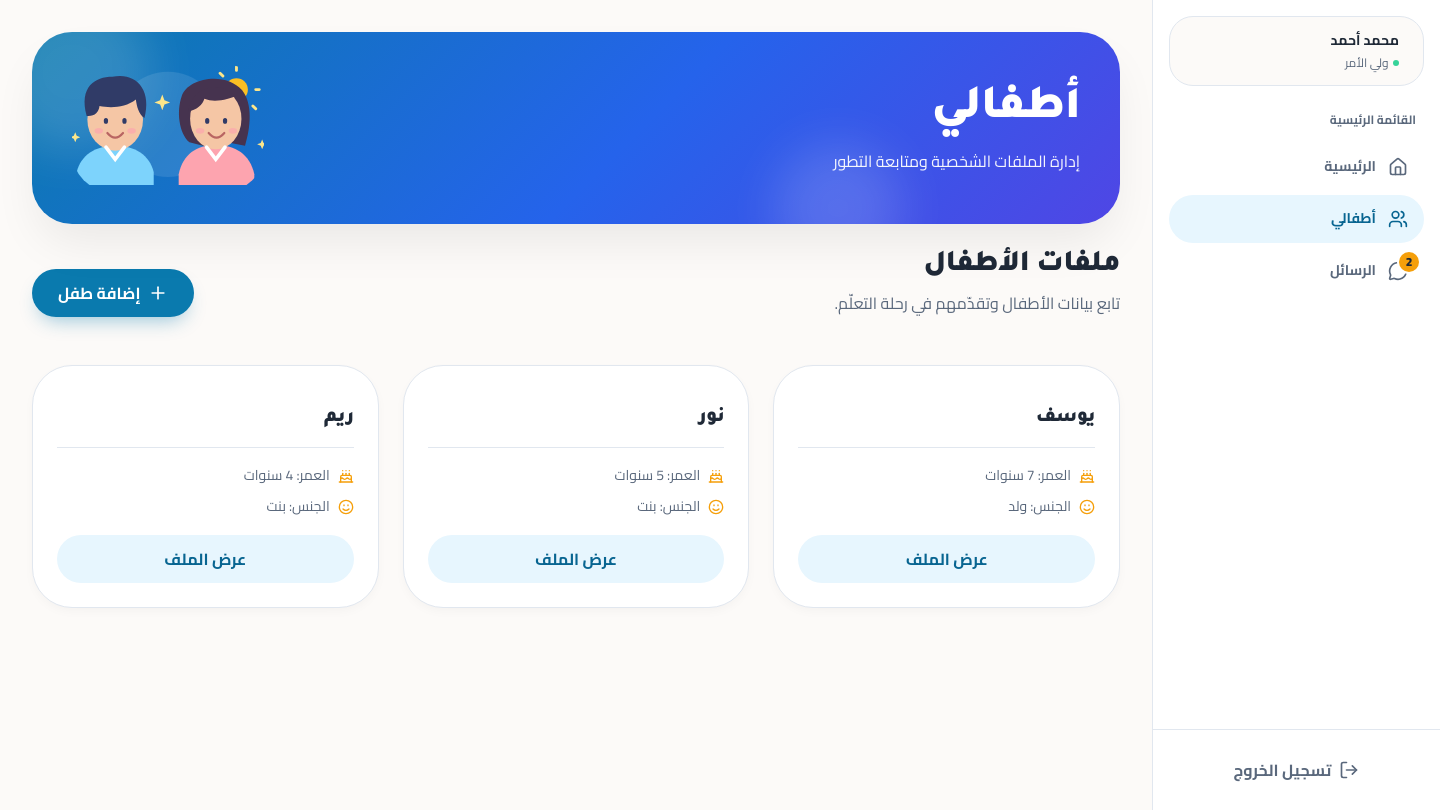
Test: ChildrenListPage — parent › adds a child through the API (multipart FullName/Age/Gender) and refreshes the list
Step 1. Click the button "إضافة طفل" → [113, 293], box [32,269,194,317]
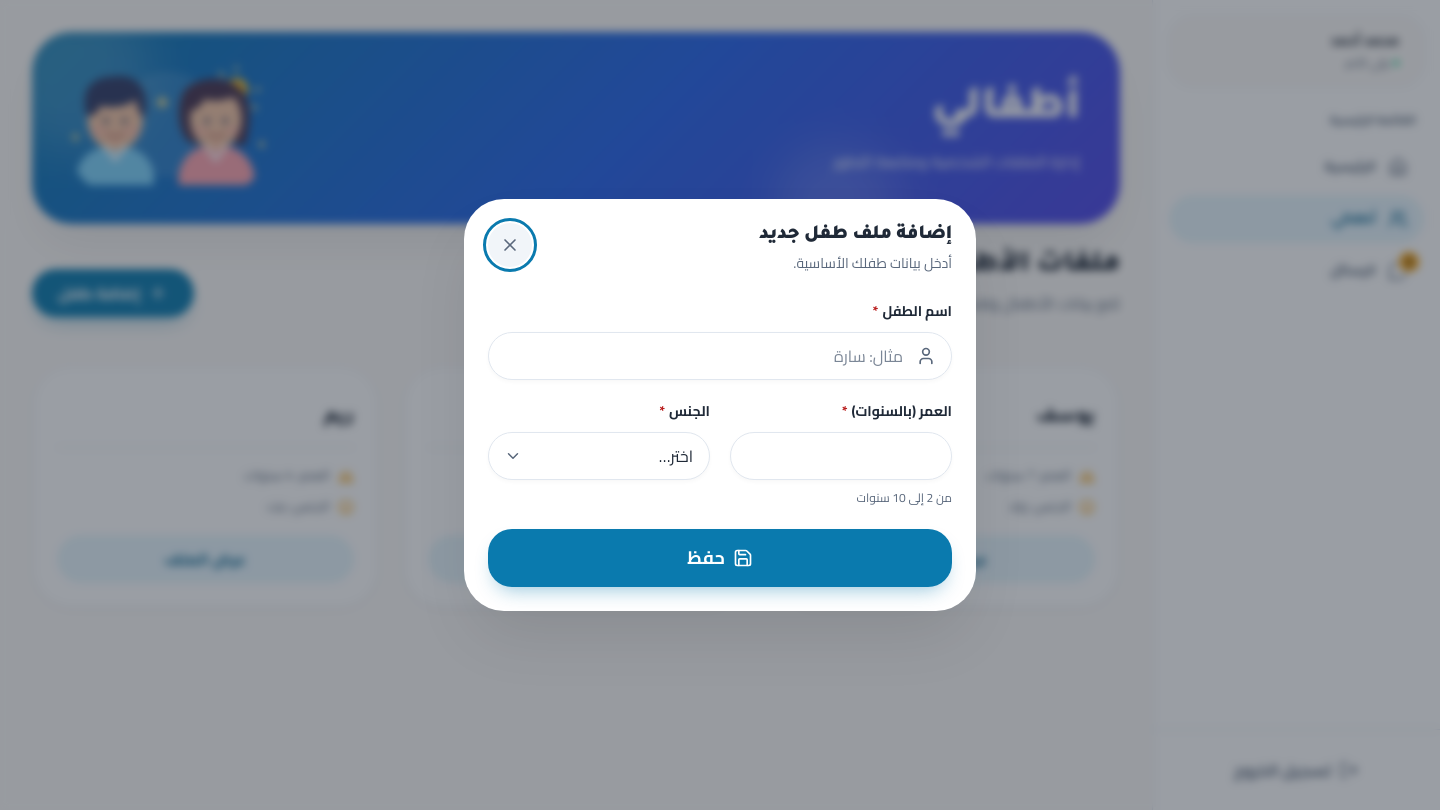
Step 2. Type "سارة" into the field labelled "اسم الطفل*" → [720, 356], box [488,332,952,380]
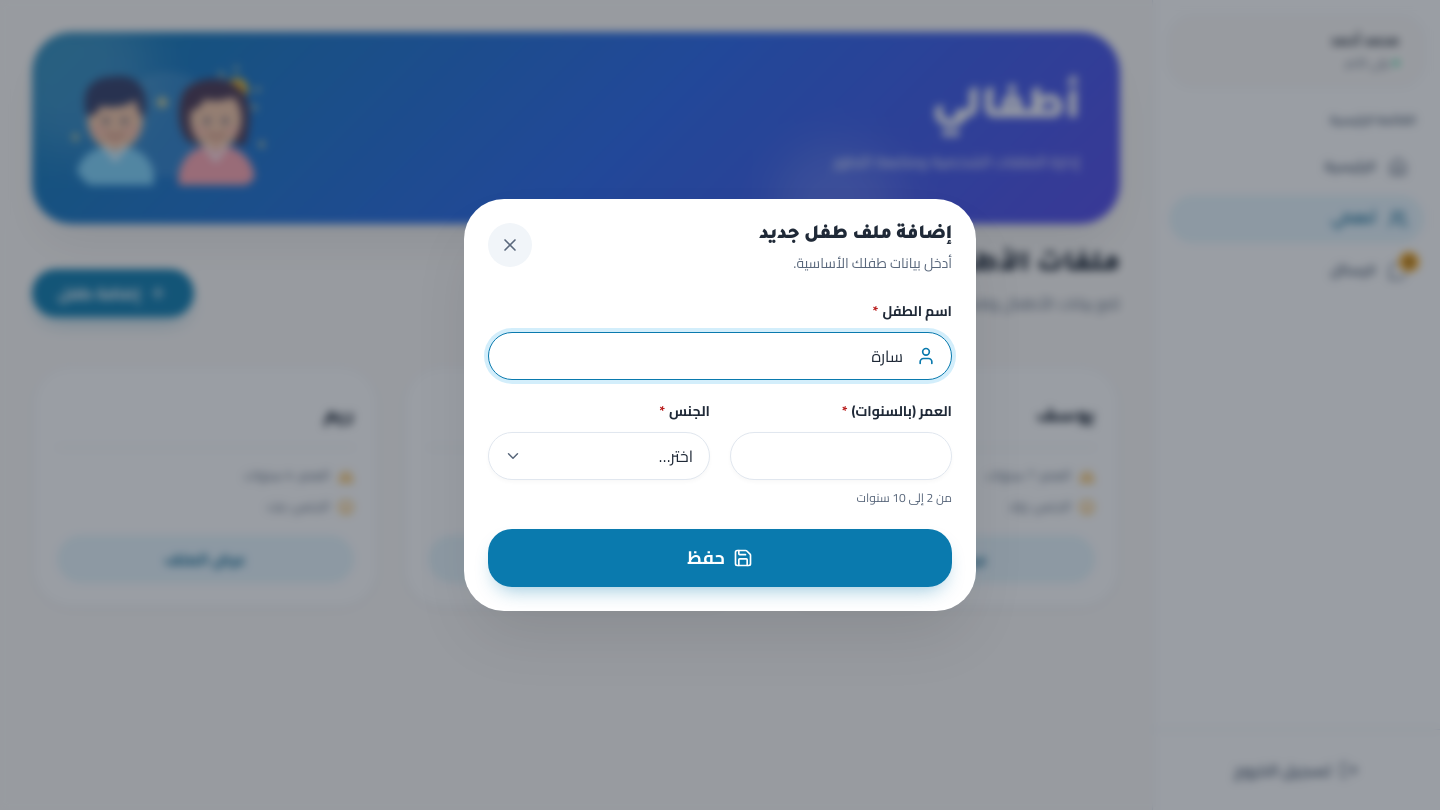
Step 3. Type "6" into the number field labelled "العمر (بالسنوات)*" → [841, 456], box [730,432,952,480]
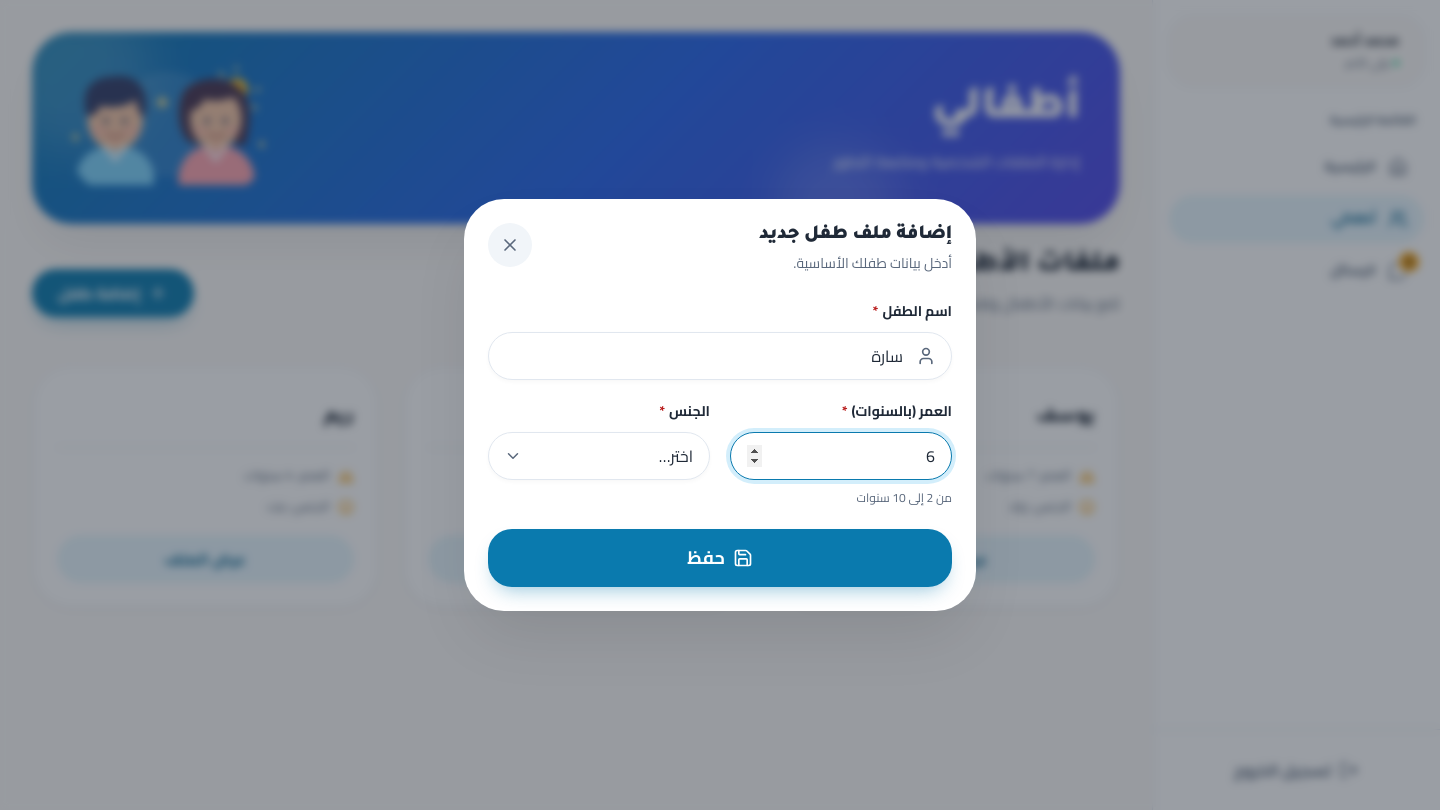
Step 4. Select "بنت" in the dropdown labelled "الجنس*" → [599, 456], box [488,432,710,480]
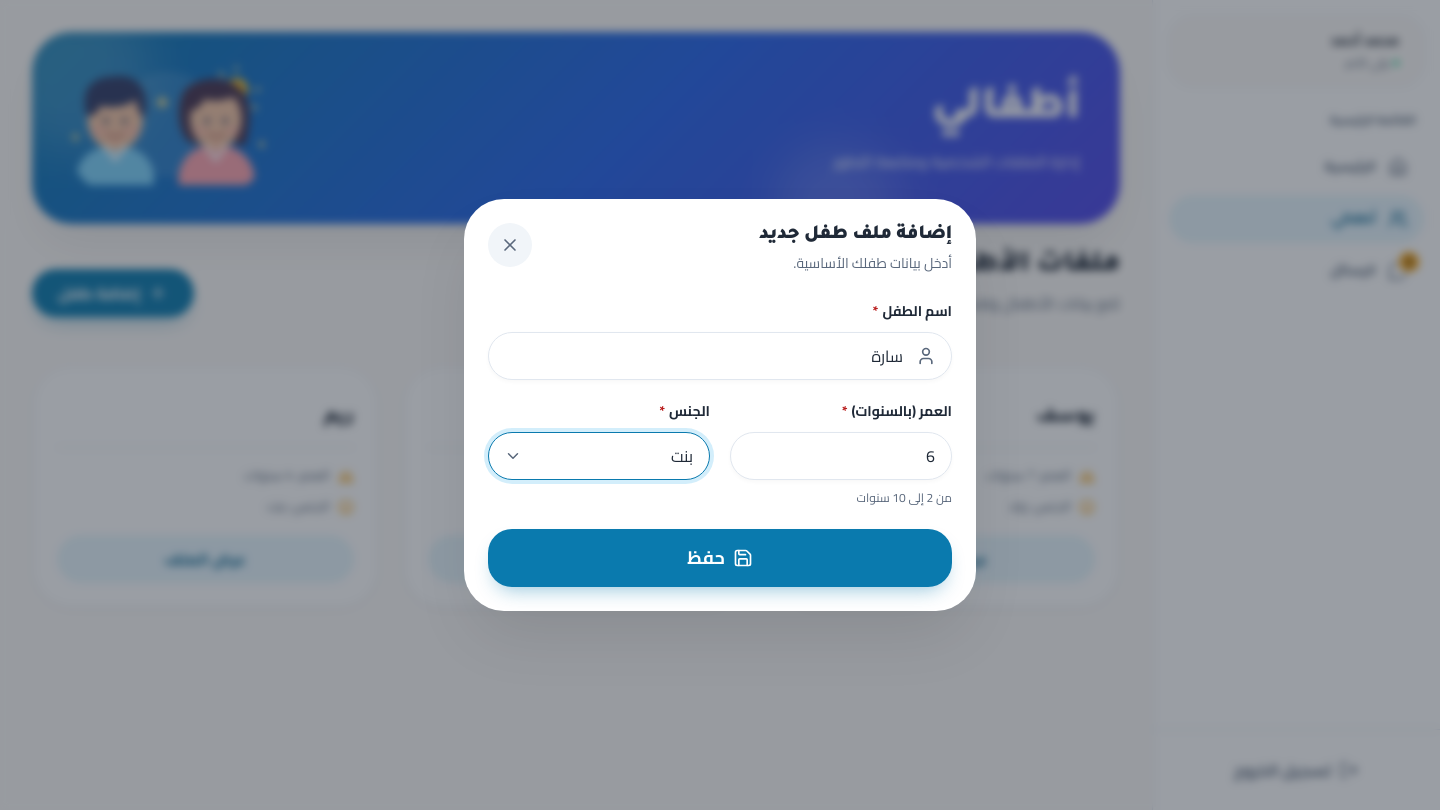
Step 5. Click the button "حفظ" → [720, 558], box [488,528,952,587]
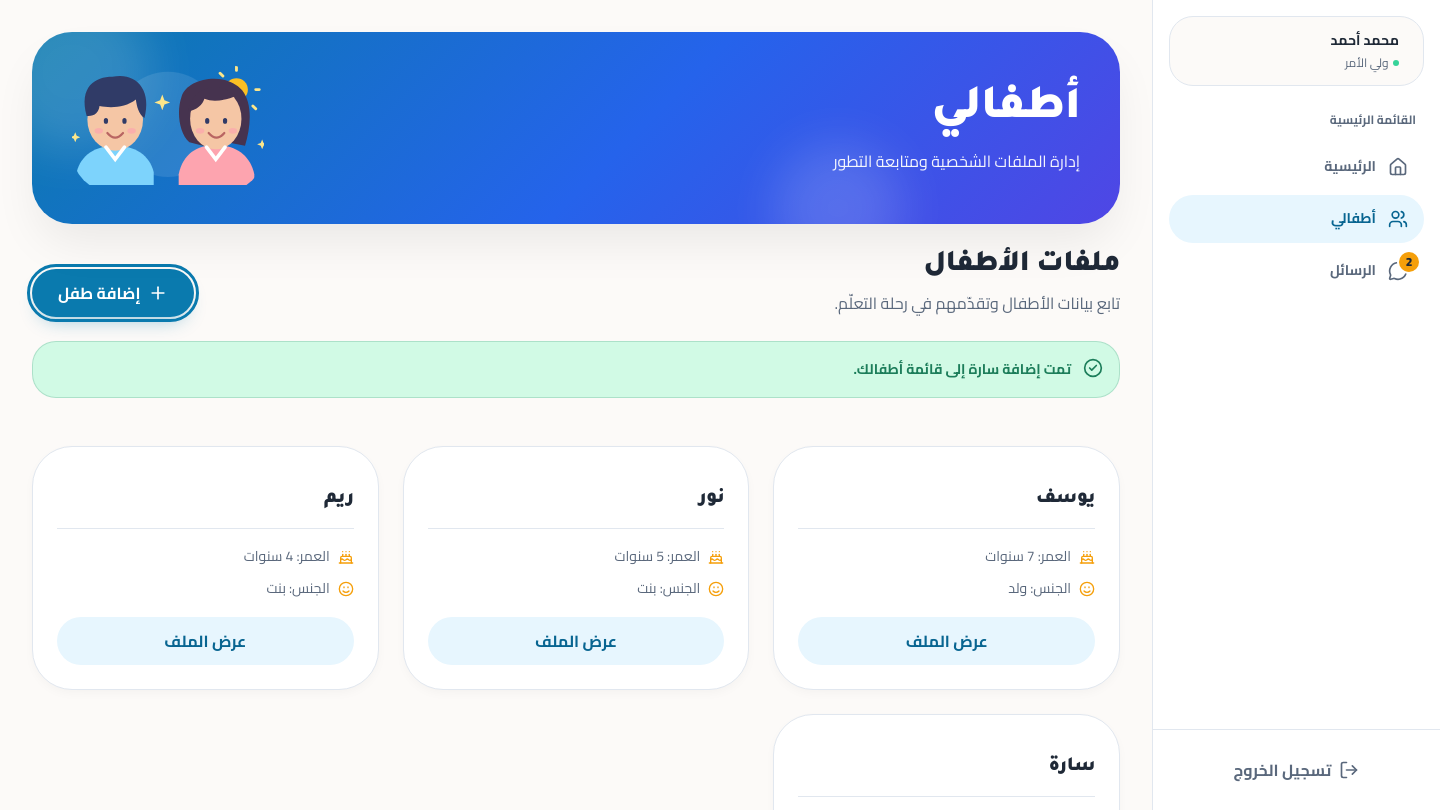
Result: the text "تمت إضافة سارة إلى قائمة أطفالك." is shown at [854,358,1071,382]
Result: the heading "سارة" is shown at [1048,757,1095,777]
